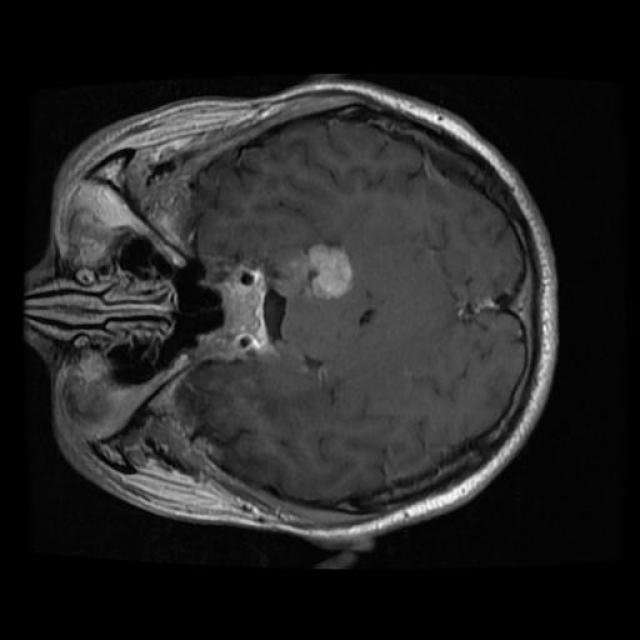Meningioma: (307, 244, 353, 299)
